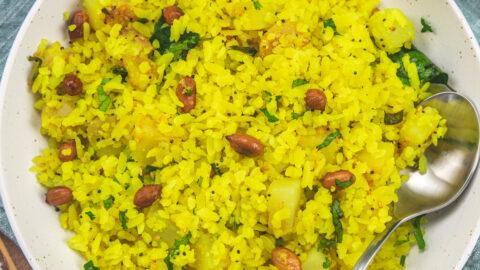poha: (27, 0, 459, 270)
